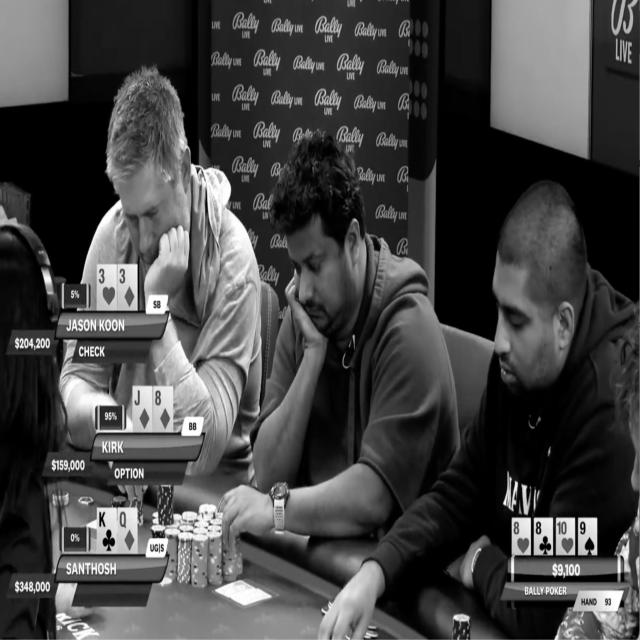10H: (557, 517, 575, 555)
3D: (117, 265, 138, 309)
3H: (97, 265, 117, 310)
8C: (534, 517, 553, 555)
8D: (153, 386, 173, 433)
8H: (512, 518, 532, 555)
9S: (578, 518, 597, 556)
JD: (132, 386, 153, 433)
KC: (97, 508, 116, 552)
QD: (118, 508, 138, 552)
